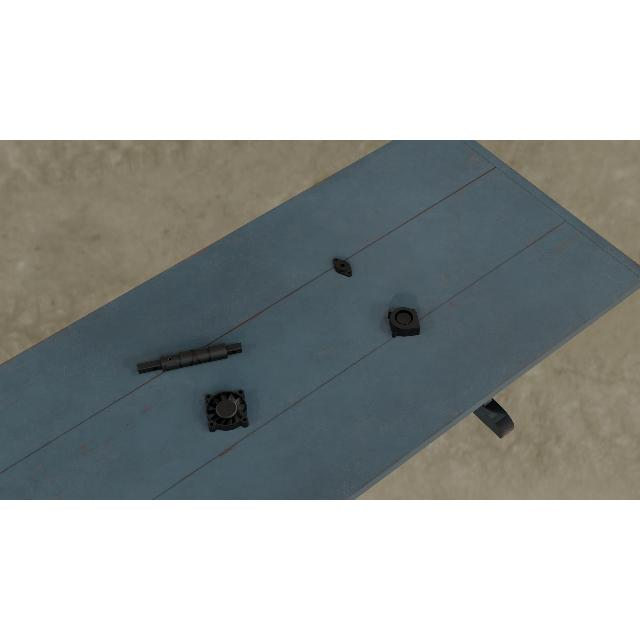Pieza1: (136, 336, 244, 379)
Pieza2: (328, 254, 358, 280)
Pieza3: (387, 306, 421, 338)
Pieza4: (204, 388, 250, 434)
